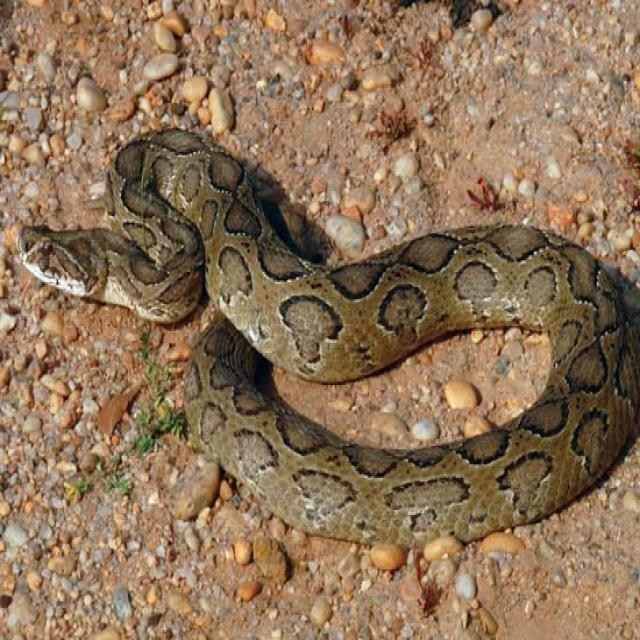Snake: (15, 124, 639, 550)
